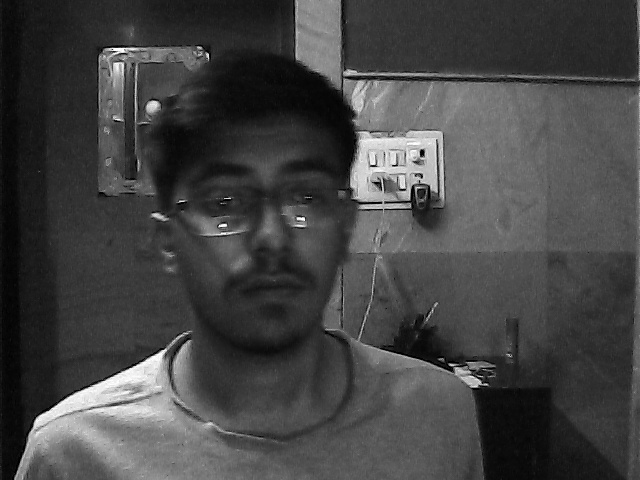nomask: (169, 118, 358, 357)
